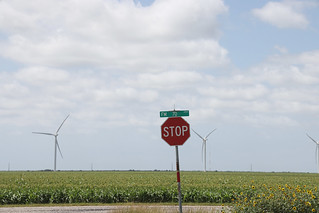StopSign: (160, 117, 189, 145)
